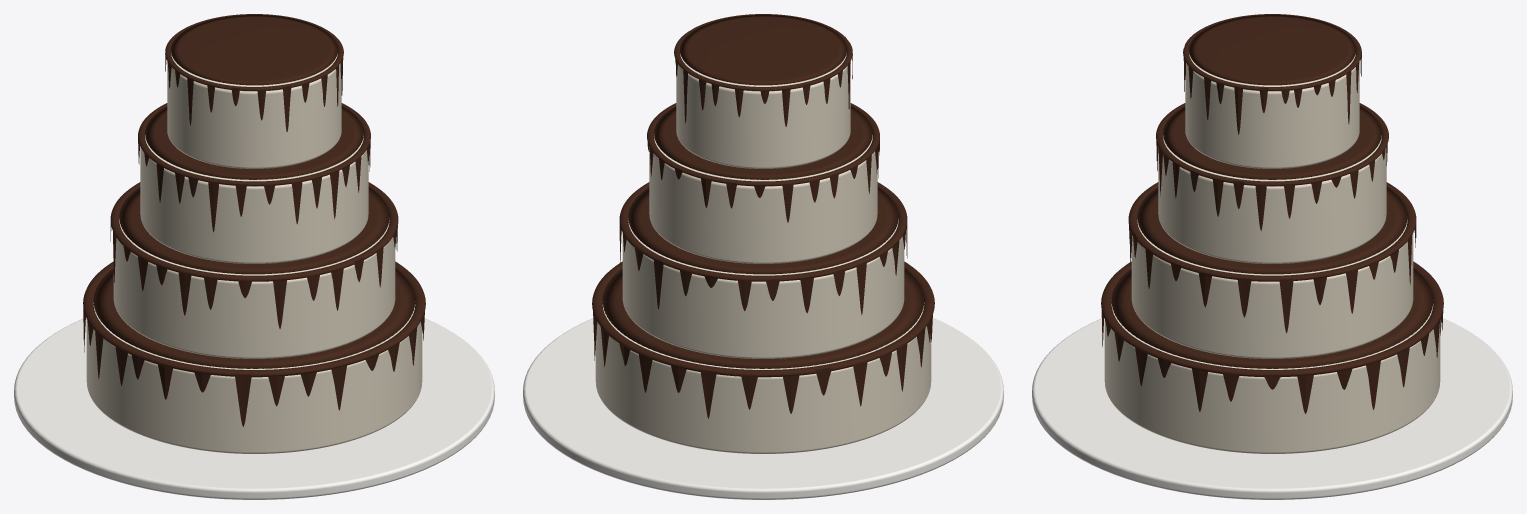
The model's file is round_4_tier.glb.
3 views of the same model, side by side, from view 1: azimuth 30°, elevation 25°; view 2: azimuth 150°, elevation 25°; view 3: azimuth 270°, elevation 25° (orthographic).
Parts seen in each view (by area): view 1: round_4_board, round_4_L1_body, round_4_L2_body, round_4_L3_body, round_4_L4_body, round_4_L4_round_photo_photo_drip_glossy_top_cap, round_4_L1_round_photo_thick_smooth_chocolate_band, round_4_L1_round_photo_photo_drip_glossy_top_cap, round_4_L2_round_photo_thick_smooth_chocolate_band, round_4_L2_round_photo_photo_drip_glossy_top_cap, round_4_L3_round_photo_thick_smooth_chocolate_band, round_4_L3_round_photo_photo_drip_glossy_top_cap (+4 smaller); view 2: round_4_board, round_4_L1_body, round_4_L2_body, round_4_L3_body, round_4_L4_body, round_4_L4_round_photo_photo_drip_glossy_top_cap, round_4_L1_round_photo_thick_smooth_chocolate_band, round_4_L1_round_photo_photo_drip_glossy_top_cap, round_4_L2_round_photo_thick_smooth_chocolate_band, round_4_L2_round_photo_photo_drip_glossy_top_cap, round_4_L3_round_photo_photo_drip_glossy_top_cap, round_4_L3_round_photo_thick_smooth_chocolate_band (+4 smaller); view 3: round_4_board, round_4_L1_body, round_4_L2_body, round_4_L3_body, round_4_L4_body, round_4_L4_round_photo_photo_drip_glossy_top_cap, round_4_L1_round_photo_thick_smooth_chocolate_band, round_4_L1_round_photo_photo_drip_glossy_top_cap, round_4_L2_round_photo_thick_smooth_chocolate_band, round_4_L2_round_photo_photo_drip_glossy_top_cap, round_4_L3_round_photo_photo_drip_glossy_top_cap, round_4_L3_round_photo_thick_smooth_chocolate_band (+4 smaller).
Part boxes in pixels (x1=…): round_4_board: x1=14, y1=317, x2=494, y2=499; round_4_L1_body: x1=86, y1=319, x2=422, y2=453; round_4_L2_body: x1=113, y1=237, x2=395, y2=358; round_4_L3_body: x1=140, y1=147, x2=368, y2=263; round_4_L4_body: x1=167, y1=61, x2=341, y2=168; round_4_L4_round_photo_photo_drip_glossy_top_cap: x1=170, y1=14, x2=337, y2=85; round_4_L1_round_photo_thick_smooth_chocolate_band: x1=83, y1=261, x2=425, y2=426; round_4_L1_round_photo_photo_drip_glossy_top_cap: x1=93, y1=268, x2=415, y2=368; round_4_L2_round_photo_thick_smooth_chocolate_band: x1=110, y1=182, x2=398, y2=328; round_4_L2_round_photo_photo_drip_glossy_top_cap: x1=119, y1=187, x2=389, y2=274; round_4_L3_round_photo_thick_smooth_chocolate_band: x1=138, y1=103, x2=370, y2=232; round_4_L3_round_photo_photo_drip_glossy_top_cap: x1=145, y1=106, x2=363, y2=179; round_4_board: x1=523, y1=318, x2=1003, y2=499; round_4_L1_body: x1=595, y1=322, x2=931, y2=453; round_4_L2_body: x1=622, y1=234, x2=904, y2=358; round_4_L3_body: x1=649, y1=147, x2=877, y2=263; round_4_L4_body: x1=676, y1=64, x2=850, y2=168; round_4_L4_round_photo_photo_drip_glossy_top_cap: x1=680, y1=14, x2=847, y2=85; round_4_L1_round_photo_thick_smooth_chocolate_band: x1=592, y1=261, x2=934, y2=418; round_4_L1_round_photo_photo_drip_glossy_top_cap: x1=602, y1=268, x2=924, y2=368; round_4_L2_round_photo_thick_smooth_chocolate_band: x1=619, y1=182, x2=907, y2=314; round_4_L2_round_photo_photo_drip_glossy_top_cap: x1=628, y1=187, x2=898, y2=274; round_4_L3_round_photo_photo_drip_glossy_top_cap: x1=654, y1=106, x2=872, y2=179; round_4_L3_round_photo_thick_smooth_chocolate_band: x1=647, y1=103, x2=879, y2=222; round_4_board: x1=1032, y1=318, x2=1512, y2=499; round_4_L1_body: x1=1104, y1=319, x2=1440, y2=453; round_4_L2_body: x1=1131, y1=233, x2=1413, y2=358; round_4_L3_body: x1=1158, y1=147, x2=1386, y2=263; round_4_L4_body: x1=1185, y1=61, x2=1359, y2=168; round_4_L4_round_photo_photo_drip_glossy_top_cap: x1=1189, y1=14, x2=1355, y2=85; round_4_L1_round_photo_thick_smooth_chocolate_band: x1=1101, y1=261, x2=1443, y2=413; round_4_L1_round_photo_photo_drip_glossy_top_cap: x1=1111, y1=268, x2=1433, y2=368; round_4_L2_round_photo_thick_smooth_chocolate_band: x1=1128, y1=182, x2=1416, y2=333; round_4_L2_round_photo_photo_drip_glossy_top_cap: x1=1137, y1=187, x2=1407, y2=274; round_4_L3_round_photo_photo_drip_glossy_top_cap: x1=1163, y1=106, x2=1381, y2=179; round_4_L3_round_photo_thick_smooth_chocolate_band: x1=1156, y1=103, x2=1388, y2=230.
Size of the model in its own units: 8.6 by 6.92 by 8.6.
